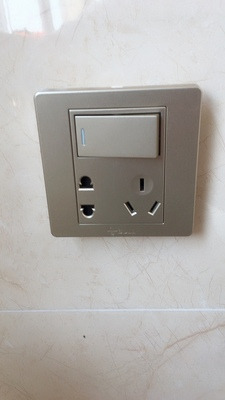switch: (66, 108, 168, 160)
